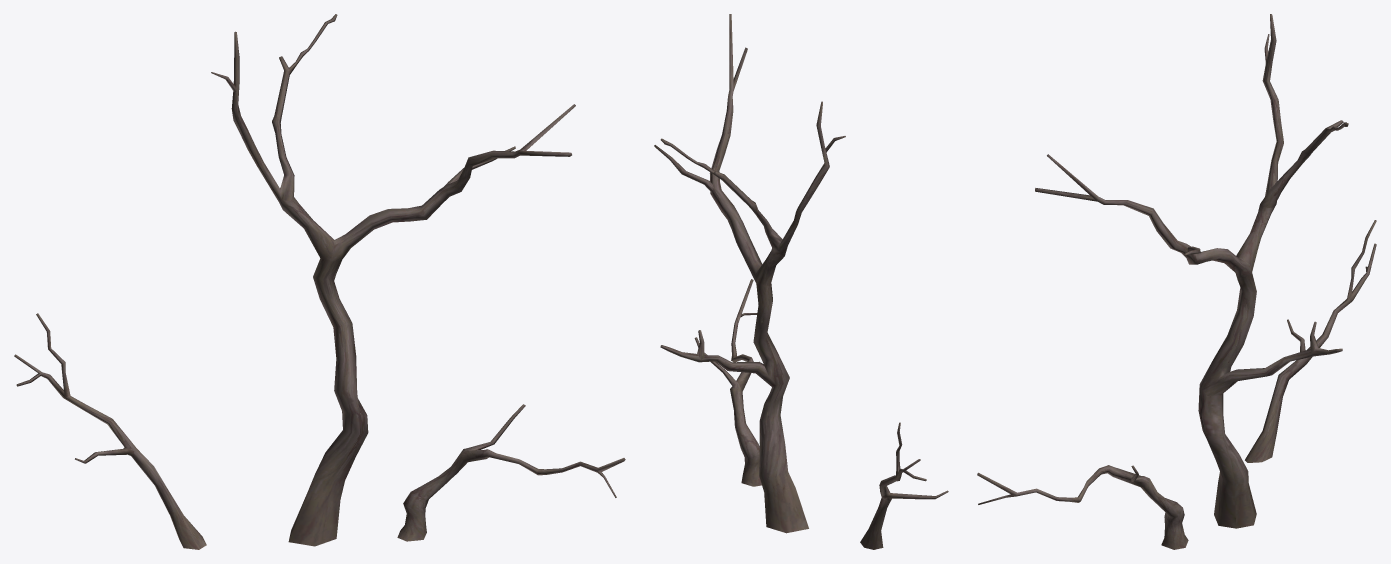
Rendered from Homeworld_General_Common_Thing_Prop_Irodori_Bcackforward_01_A_Vo.fbx.
3 renders of one model, left to right at view 1: azimuth 30°, elevation 25°; view 2: azimuth 150°, elevation 25°; view 3: azimuth 270°, elevation 25°, orthographic. The views are drawn at different scales.
Visible parts, largest first — view 1: Homeworld_General_Common_Thing_Prop_Irodori_Bcackforward_01_; view 2: Homeworld_General_Common_Thing_Prop_Irodori_Bcackforward_01_; view 3: Homeworld_General_Common_Thing_Prop_Irodori_Bcackforward_01_.
Boxes of the visible parts, x1,y1,x2,y2 form: Homeworld_General_Common_Thing_Prop_Irodori_Bcackforward_01_: (14, 14, 625, 549); Homeworld_General_Common_Thing_Prop_Irodori_Bcackforward_01_: (654, 14, 948, 549); Homeworld_General_Common_Thing_Prop_Irodori_Bcackforward_01_: (977, 14, 1376, 549).
Size of the model in its own units: 0.8607 by 1.03 by 0.7795.
